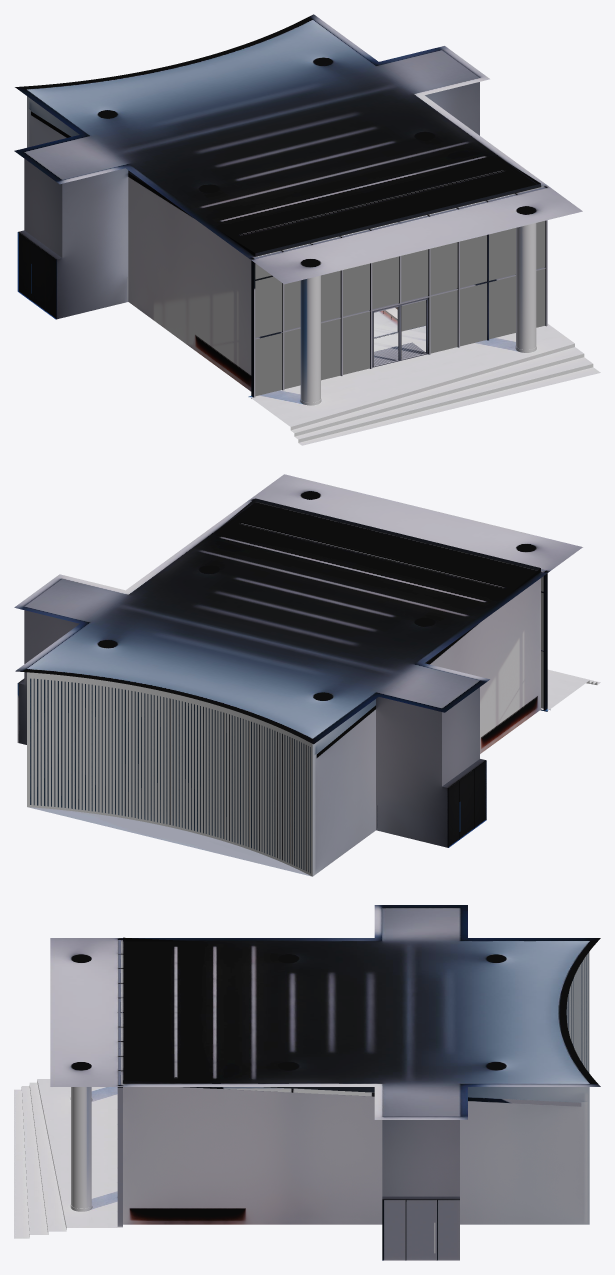
Rendered from textbox.fbx.
3 renders of one model, top to bottom at view 1: azimuth 30°, elevation 25°; view 2: azimuth 150°, elevation 25°; view 3: azimuth 270°, elevation 25°, orthographic. The views are drawn at different scales.
Visible parts, largest first — view 1: floor, walls, glass, doors; view 2: floor, walls, furniture, doors; view 3: floor, walls, doors, furniture.
Part boxes in pixels (<box>): floor: <box>14,14,600,445</box>; walls: <box>18,82,536,405</box>; glass: <box>127,221,545,396</box>; doors: <box>17,187,549,398</box>; floor: <box>14,474,600,876</box>; walls: <box>17,578,540,876</box>; furniture: <box>30,678,460,873</box>; doors: <box>17,569,550,846</box>; floor: <box>14,905,600,1238</box>; walls: <box>70,951,589,1260</box>; doors: <box>117,940,459,1260</box>; furniture: <box>434,952,588,1253</box>.
Bounding box in the file's own units: 772 × 260 × 891.
7 materials, 4 textured.
